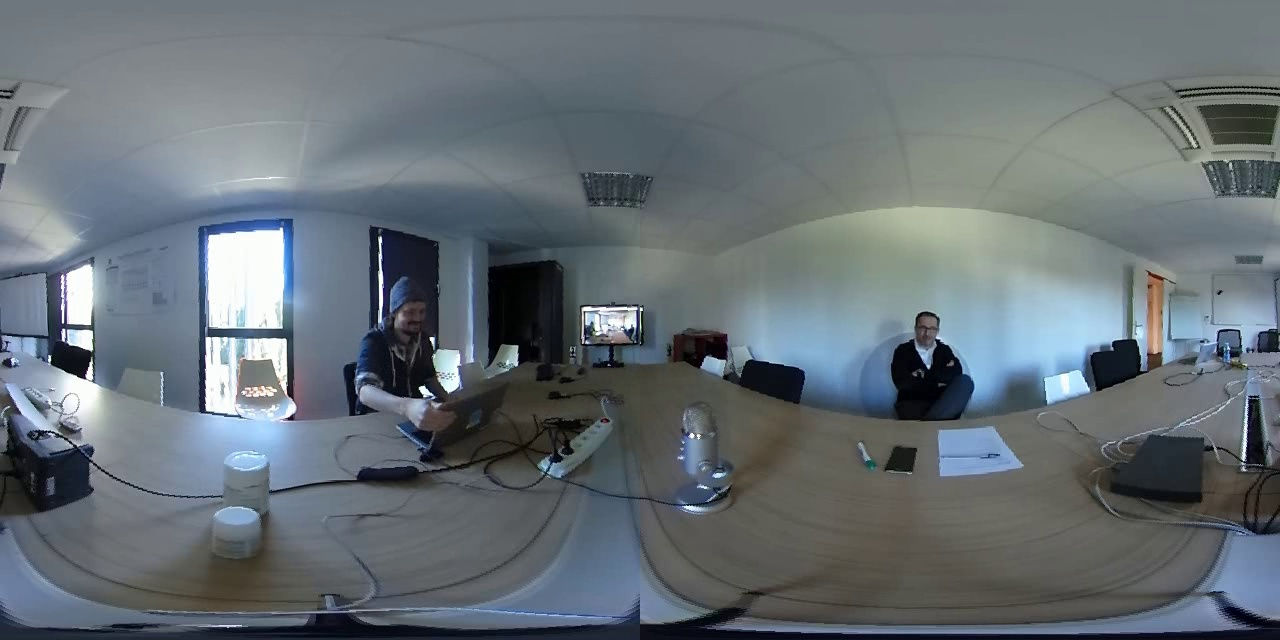person: (355, 270, 450, 424), (885, 294, 973, 424)
